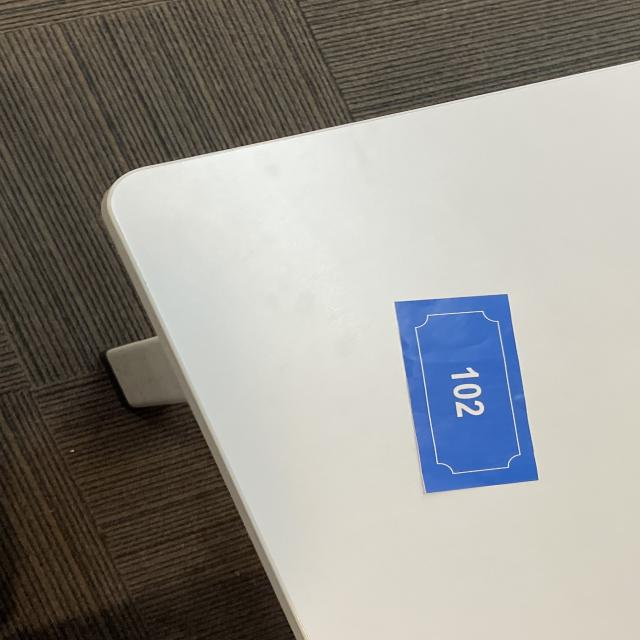Card: (367, 284, 569, 504)
